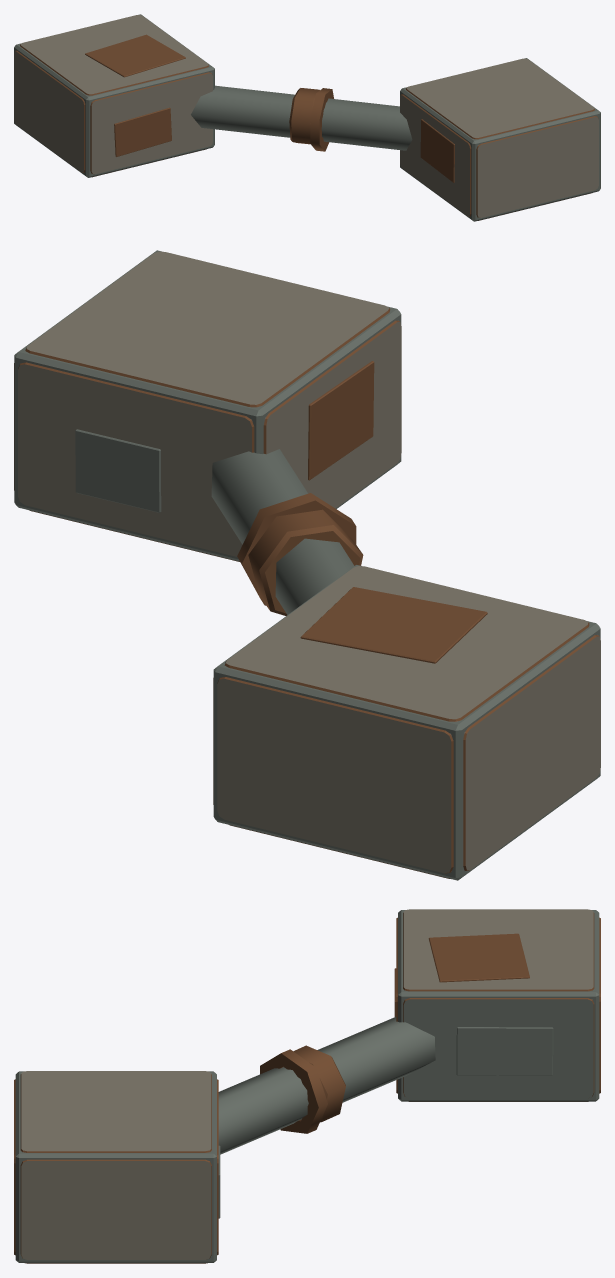
File: R4C_ROD_DIAG_2D_SHORT.fbx
The picture shows the model from 3 angles, top to bottom: view 1: azimuth 30°, elevation 25°; view 2: azimuth 150°, elevation 25°; view 3: azimuth 270°, elevation 25°; orthographic projection. The views are drawn at different scales.
Parts seen in each view (by area): view 1: R4C_ROD_DIAG_2D_SHORT; view 2: R4C_ROD_DIAG_2D_SHORT; view 3: R4C_ROD_DIAG_2D_SHORT.
Part boxes in pixels (left/top/right/bottom): R4C_ROD_DIAG_2D_SHORT: left=14, top=14, right=600, bottom=221; R4C_ROD_DIAG_2D_SHORT: left=14, top=250, right=600, bottom=880; R4C_ROD_DIAG_2D_SHORT: left=14, top=909, right=600, bottom=1263.
Size of the model in its own units: 1.07 by 0.232 by 1.07.
